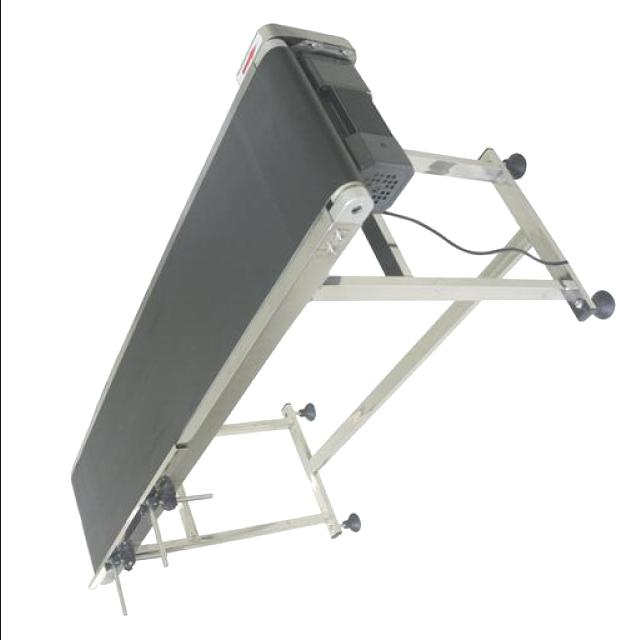conveyor: (70, 29, 351, 581)
